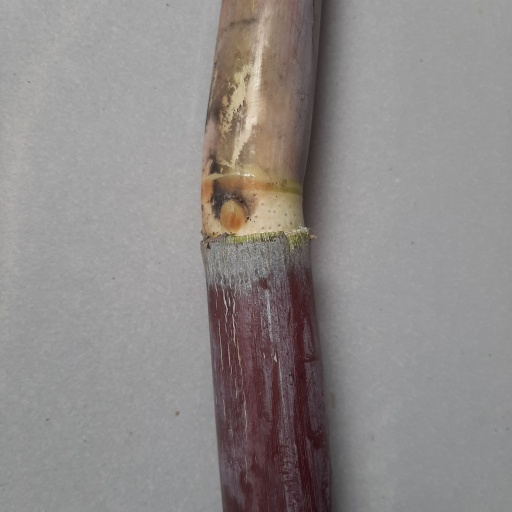Bud: (216, 196, 249, 234)
